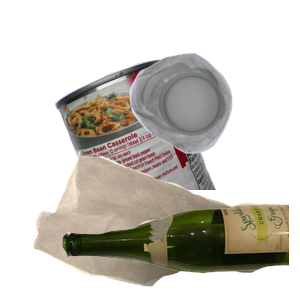glass: (60, 201, 300, 300)
metal: (52, 57, 260, 237)
plastic: (127, 51, 300, 197)
trash: (31, 149, 268, 300)
